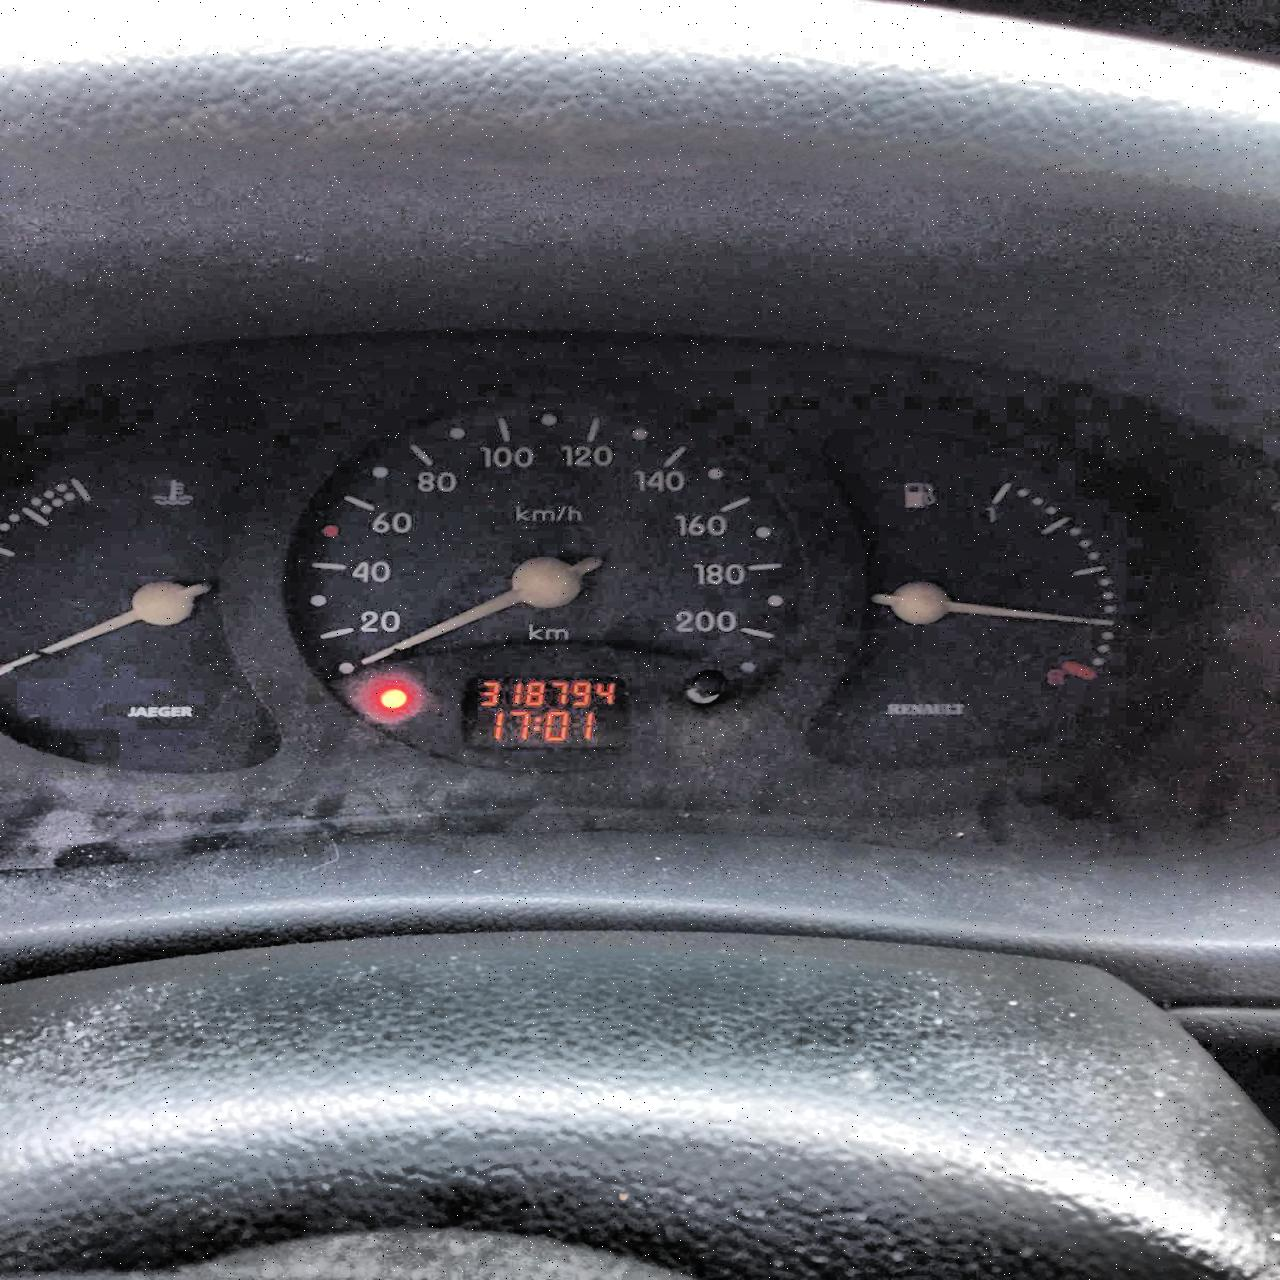0: (543, 710, 568, 741)
1: (492, 712, 503, 740), (584, 712, 593, 741), (513, 682, 520, 703)
3: (481, 681, 498, 706)
4: (594, 682, 613, 703)
7: (510, 710, 527, 740), (551, 681, 567, 704)
8: (524, 681, 544, 706)
9: (571, 681, 590, 706)
X: (532, 715, 540, 731)
odometer: (456, 673, 636, 753)
